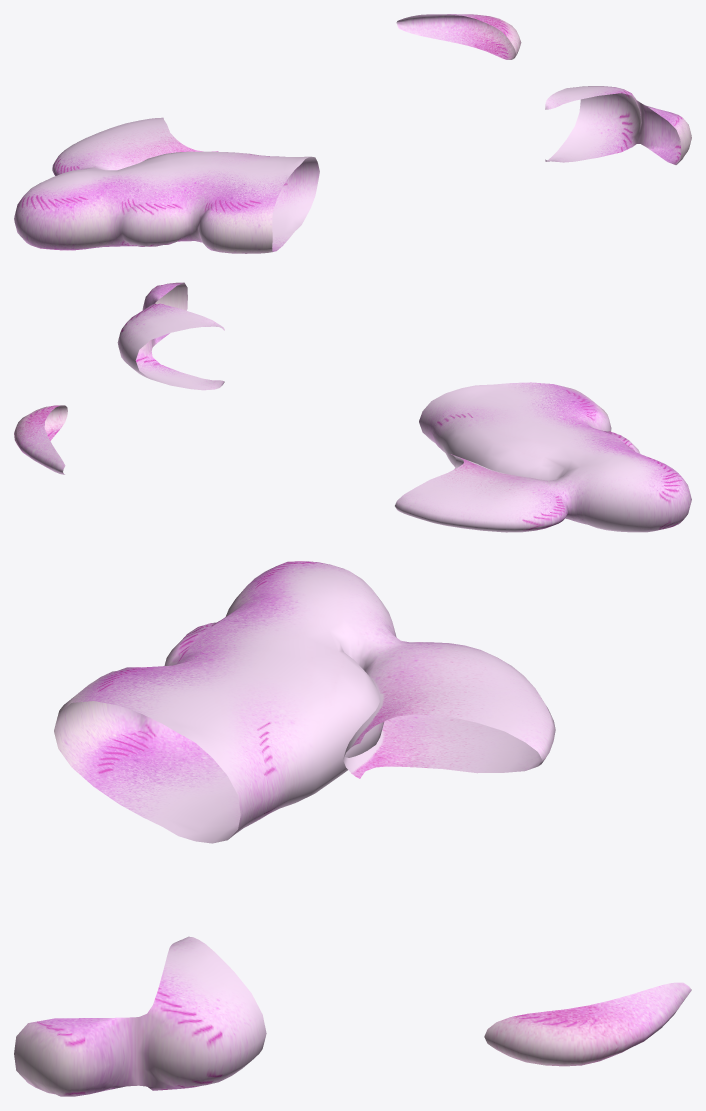
Rendered from Cloud_C_nuki_2_Left.obj.
The picture shows the model from 3 angles, top to bottom: view 1: azimuth 30°, elevation 25°; view 2: azimuth 150°, elevation 25°; view 3: azimuth 270°, elevation 25°; orthographic projection. The views are drawn at different scales.
Visible parts, largest first — view 1: Cloud_C_nuki_2_Left; view 2: Cloud_C_nuki_2_Left; view 3: Cloud_C_nuki_2_Left.
Boxes of the visible parts, x1=… form: Cloud_C_nuki_2_Left: x1=14, y1=14, x2=691, y2=253; Cloud_C_nuki_2_Left: x1=14, y1=282, x2=691, y2=532; Cloud_C_nuki_2_Left: x1=14, y1=561, x2=691, y2=1096.
Bounding box in the file's own units: 2.27 × 0.2238 × 1.33.
